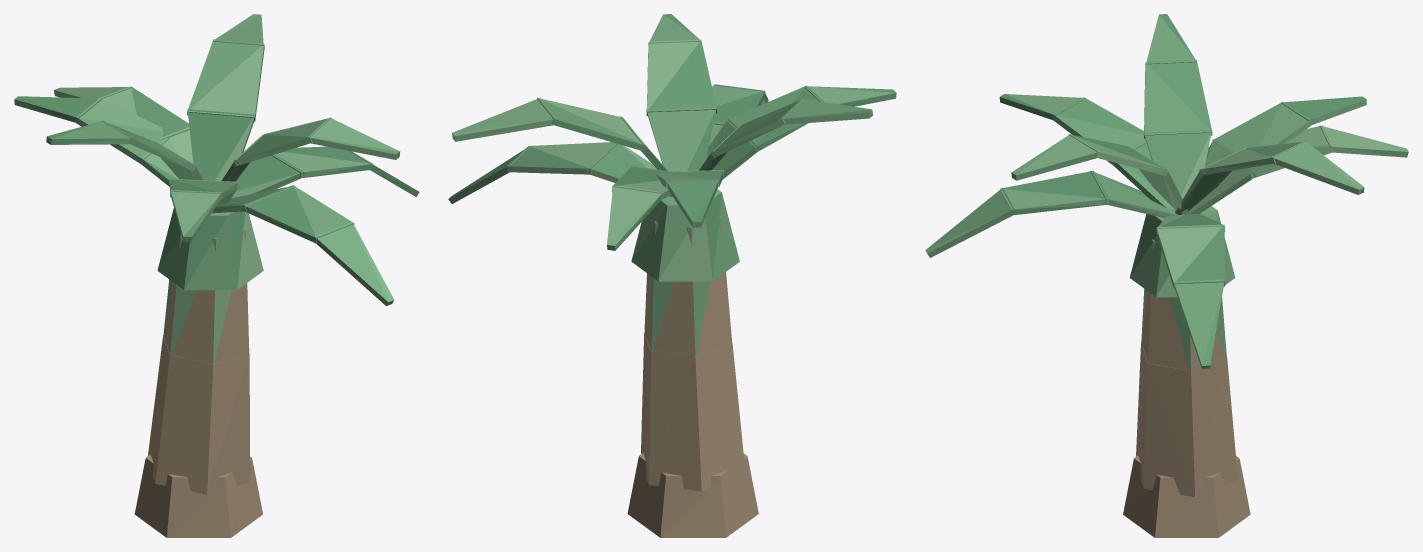
File: palm-tree-01.glb
3 renders of one model, left to right at view 1: azimuth 30°, elevation 25°; view 2: azimuth 150°, elevation 25°; view 3: azimuth 270°, elevation 25°, orthographic. The views are drawn at different scales.
Parts seen in each view (by area): view 1: palm_tree_01; view 2: palm_tree_01; view 3: palm_tree_01.
Part boxes in pixels (x1,y1,x2,y2): palm_tree_01: [14, 14, 419, 537]; palm_tree_01: [448, 14, 896, 537]; palm_tree_01: [925, 14, 1408, 537].
Size of the model in its own units: 1.81 by 1.87 by 1.95.
